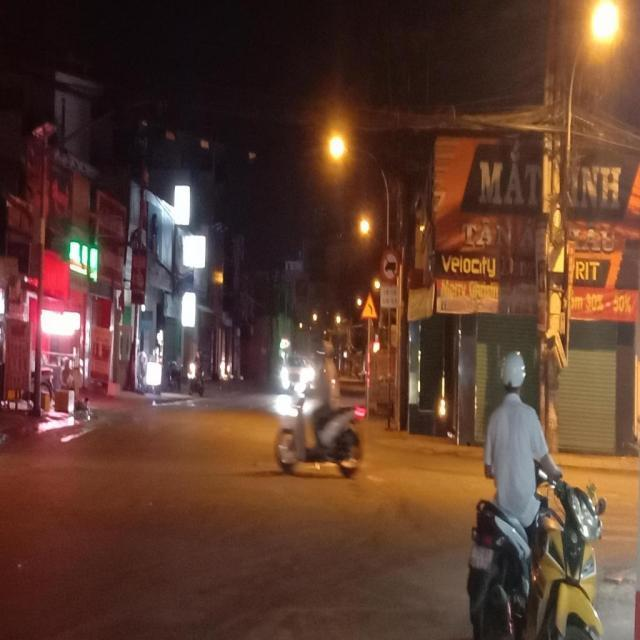106-cam-oto-tai: (380, 248, 401, 285)
201-cho-ngoat-nguy-hiem: (360, 291, 380, 320)
